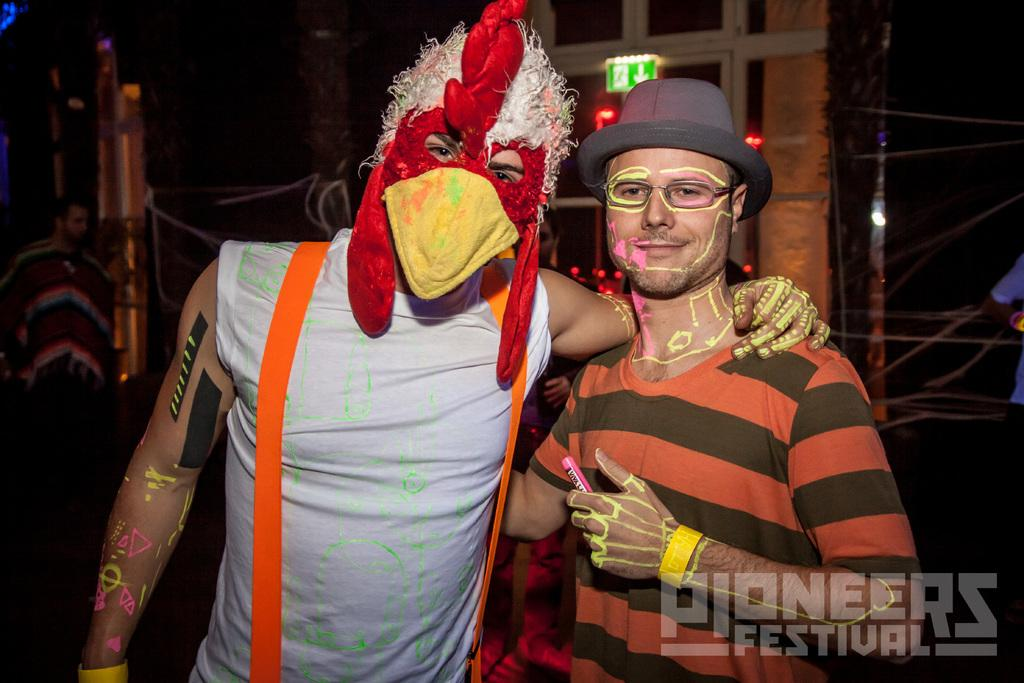Hat: (586, 75, 774, 215)
